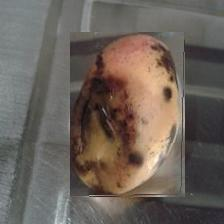Mango Semirotten: (71, 33, 186, 198)
